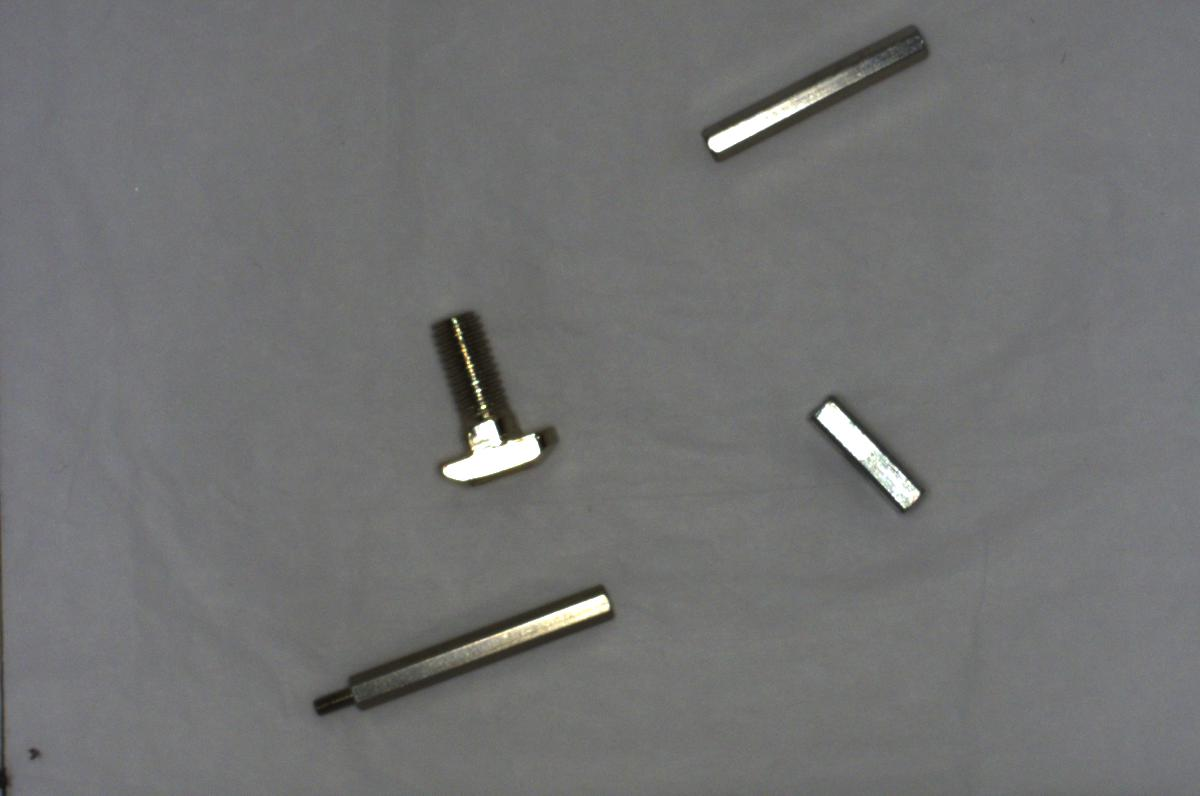Double hexagonal column: (687, 13, 945, 163)
Hexagonal steel column: (308, 578, 625, 725)
Rectangular nut: (811, 393, 934, 519)
T-shaped screw: (418, 300, 560, 482)
